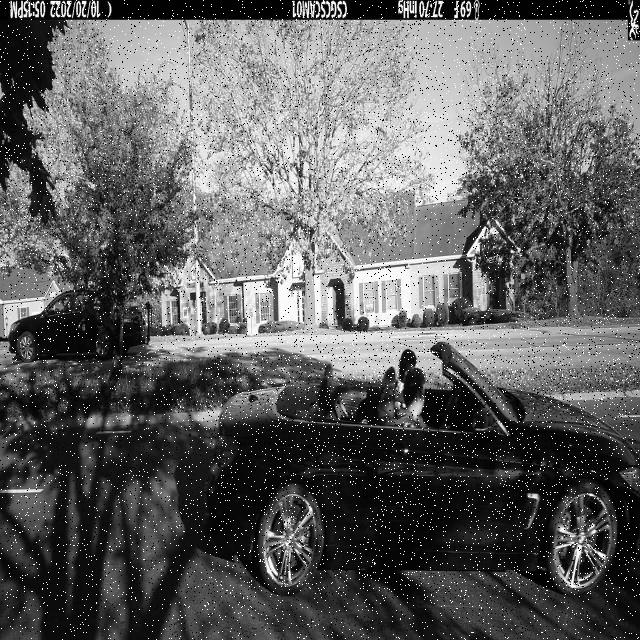Sedan: (207, 342, 640, 597)
